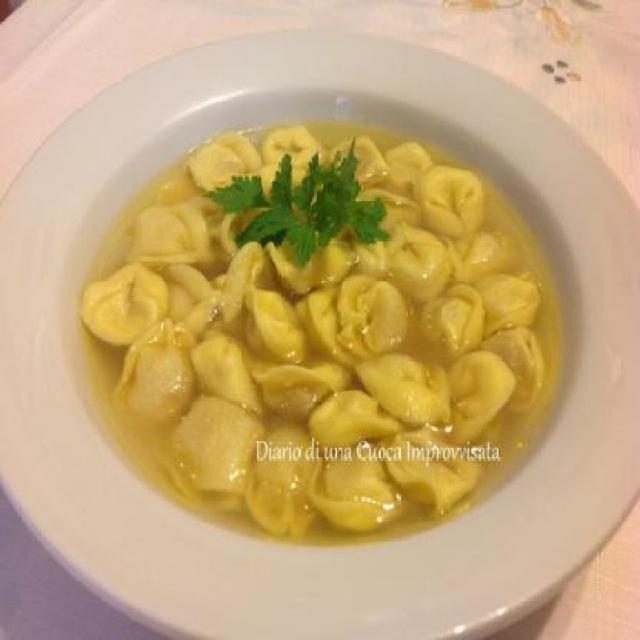Tortellini in broth: (107, 112, 567, 530)
